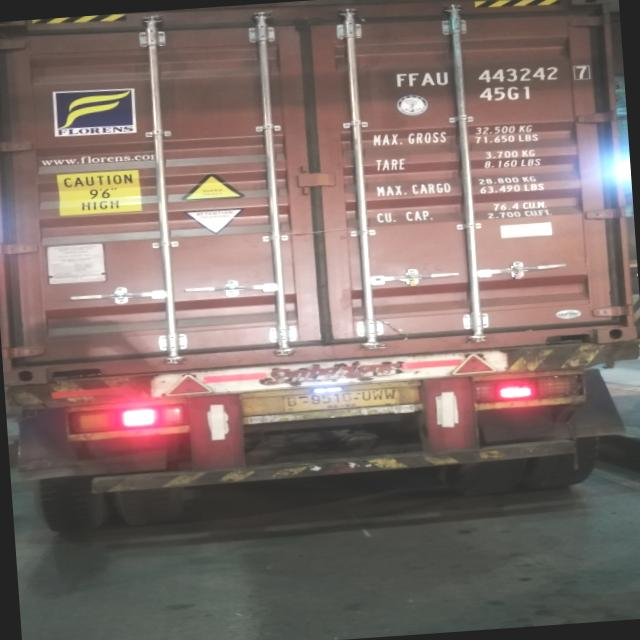seal: (406, 271, 419, 288), (509, 265, 524, 279)
